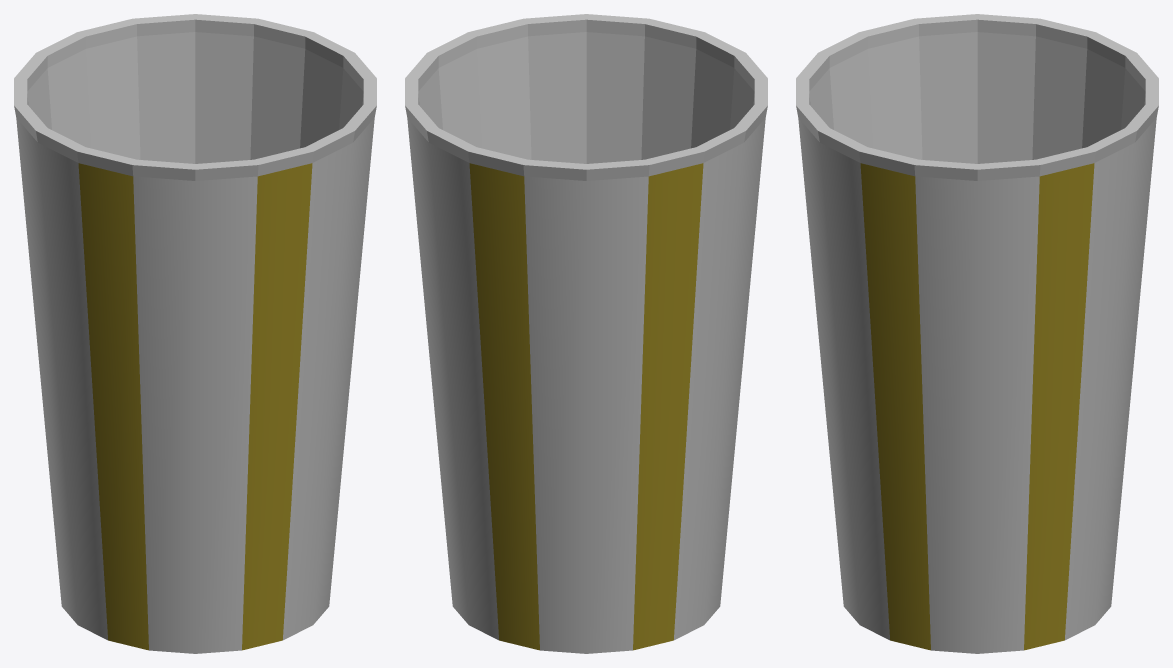
File: YellowCup.fbx
3 renders of one model, left to right at view 1: azimuth 30°, elevation 25°; view 2: azimuth 150°, elevation 25°; view 3: azimuth 270°, elevation 25°, orthographic.
Parts seen in each view (by area): view 1: YellowCup; view 2: YellowCup; view 3: YellowCup.
Boxes of the visible parts, x1,y1,x2,y2 form: YellowCup: (14, 14, 376, 653); YellowCup: (405, 14, 767, 653); YellowCup: (796, 14, 1158, 653).
Size of the model in its own units: 26.87 by 40.61 by 26.47.
